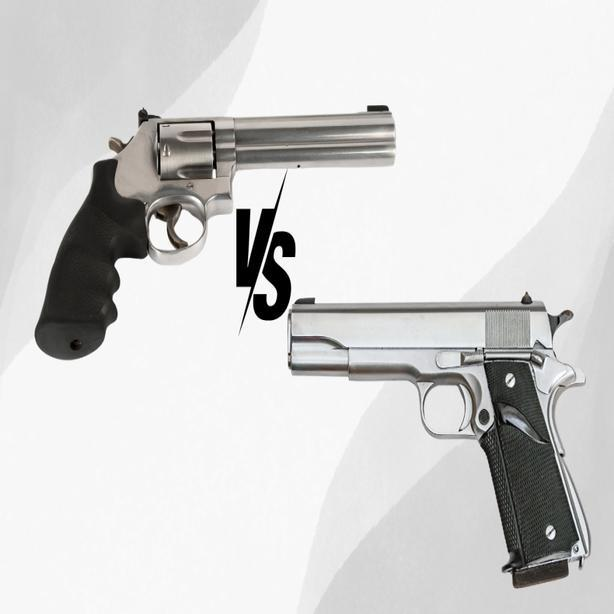Firearm: (28, 78, 416, 362), (275, 293, 600, 595)
